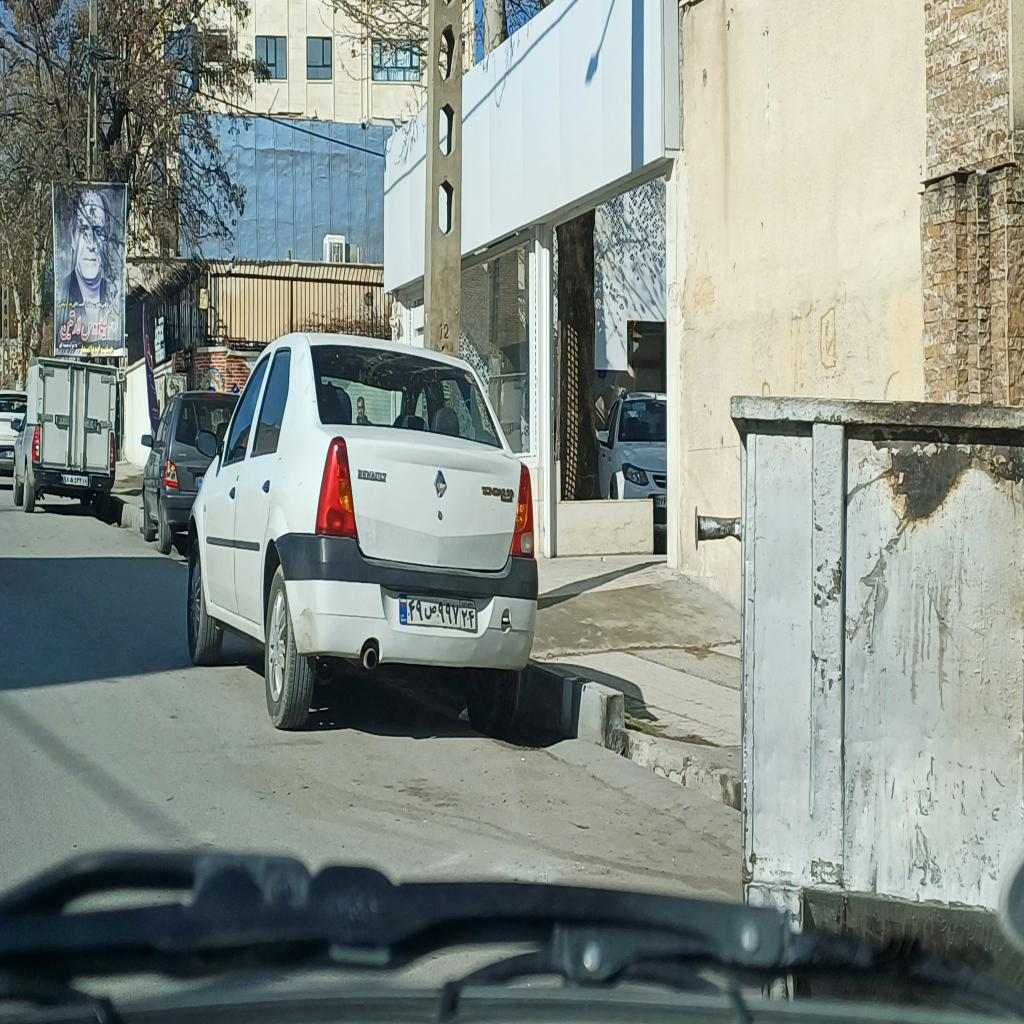Plates: (399, 594, 477, 632)
